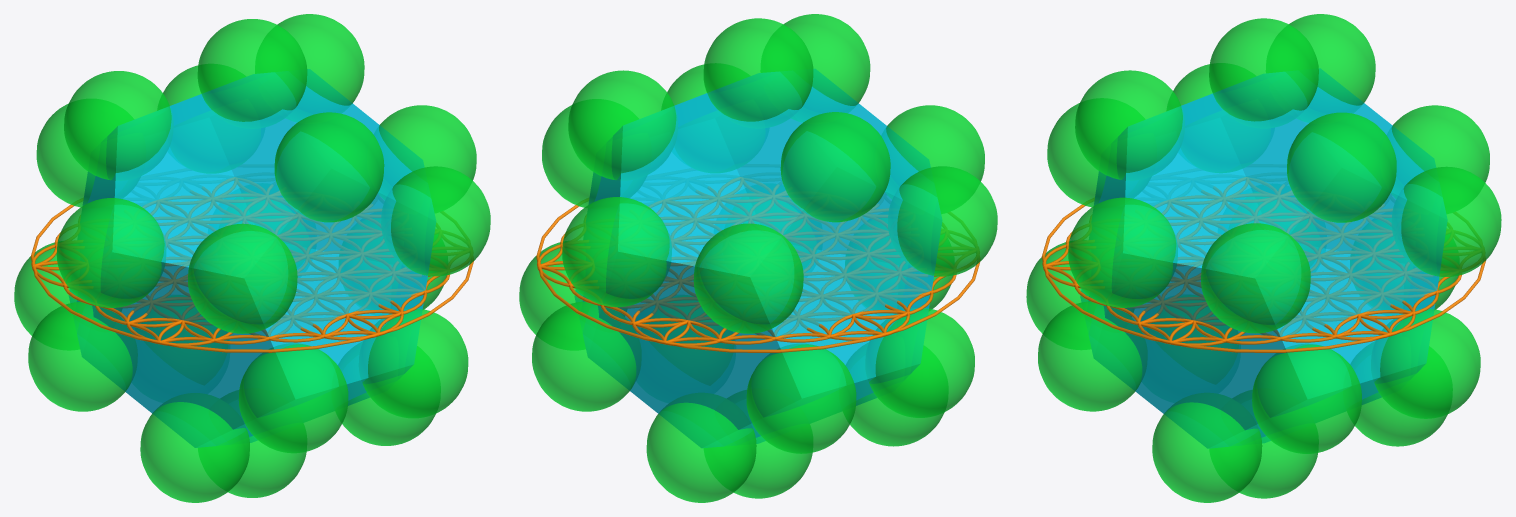
The model's file is floweroflife2d_dodecahedron.glb.
3 views of the same model, side by side, from view 1: azimuth 30°, elevation 25°; view 2: azimuth 150°, elevation 25°; view 3: azimuth 270°, elevation 25° (orthographic).
Bounding box in the file's own units: 8.04 × 8.46 × 7.75.
